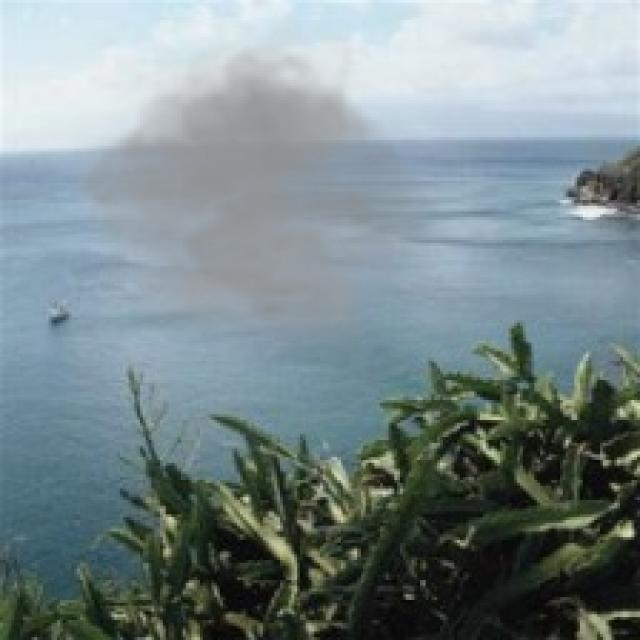smoke: (60, 9, 454, 357)
